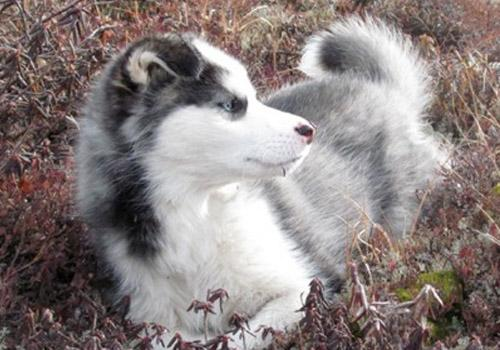husky: (67, 23, 434, 312)
